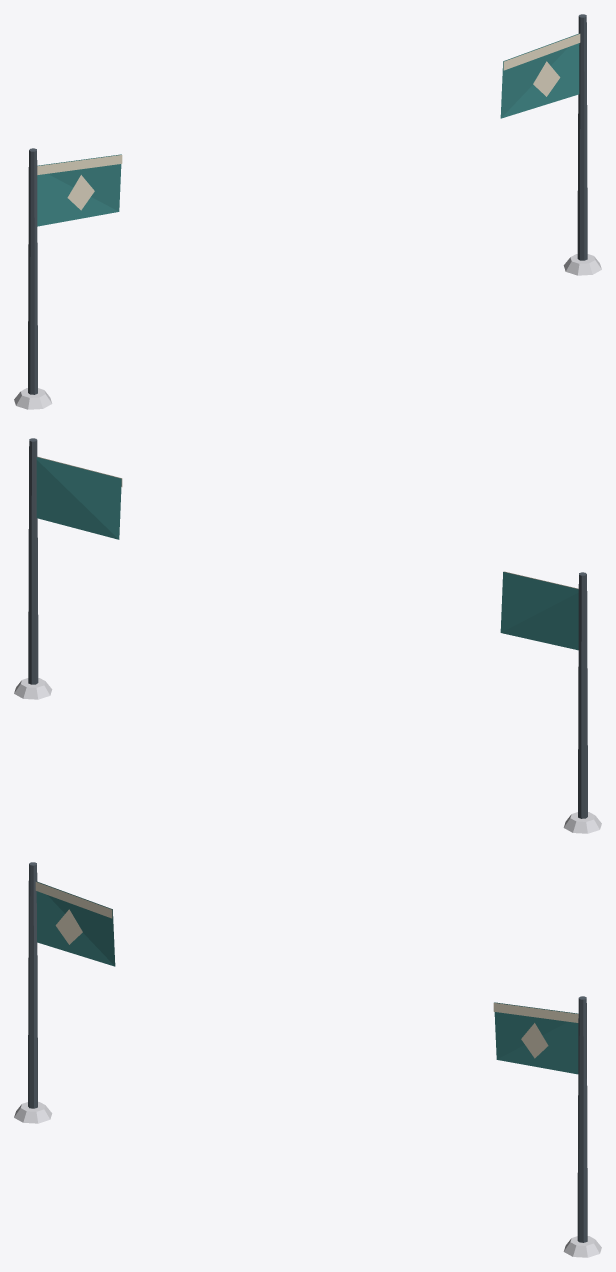
File: gate-teal.glb
The picture shows the model from 3 angles, top to bottom: view 1: azimuth 30°, elevation 25°; view 2: azimuth 150°, elevation 25°; view 3: azimuth 330°, elevation 25°; orthographic projection.
Visible parts, largest first — view 1: gate-teal; view 2: gate-teal; view 3: gate-teal.
Part boxes in pixels (bbox=[...]): gate-teal: bbox=[14, 14, 601, 409]; gate-teal: bbox=[14, 438, 601, 833]; gate-teal: bbox=[14, 862, 601, 1257].
Size of the model in its own units: 6.8 by 2.8 by 0.4.
